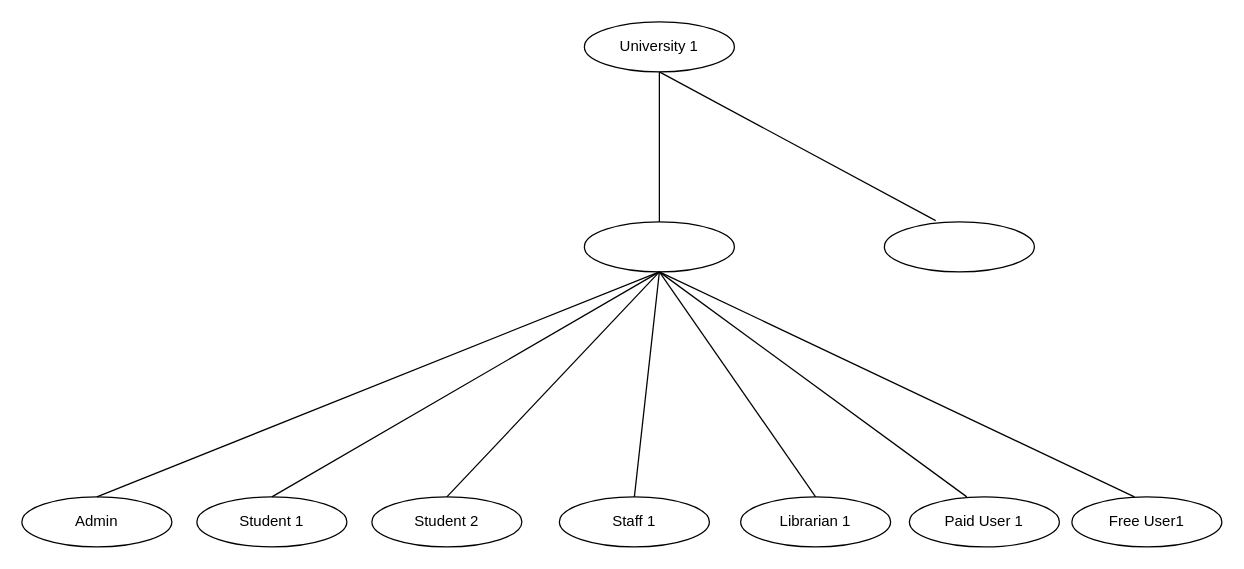
The diagram is 1244 pixels wide and 569 high, and some of its shapes have lost their labels. Each missing label, with the centre of its shape:
"LIbrary 1" goes at pixel 658 246.
"LIbrary 2" goes at pixel 958 246.
